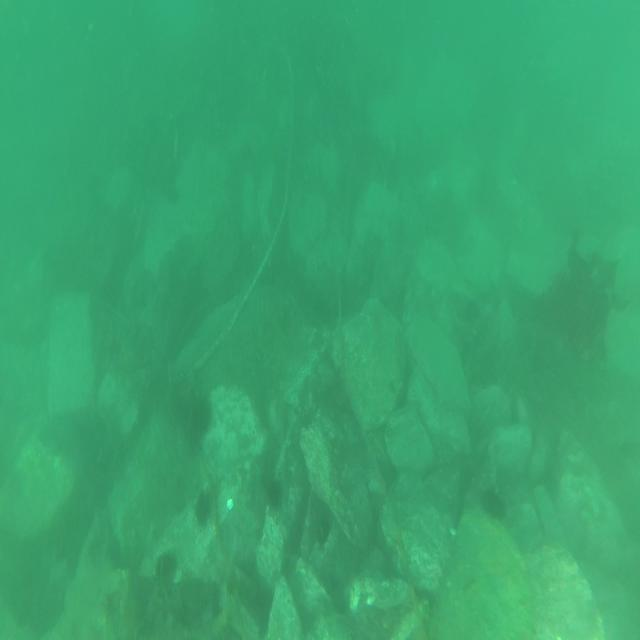echinus: (187, 390, 216, 442), (479, 482, 508, 524), (150, 545, 178, 582), (194, 490, 214, 526), (268, 476, 284, 506)
